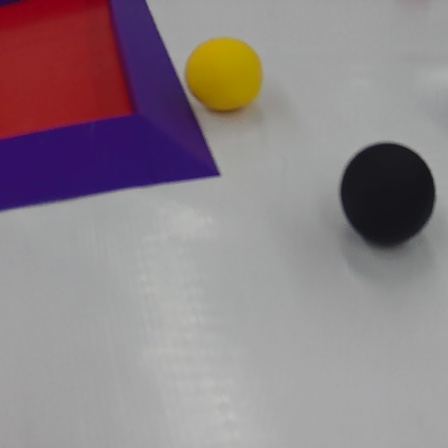black: (337, 143, 440, 246)
red_aim: (0, 0, 226, 209)
yellow: (188, 37, 267, 119)
